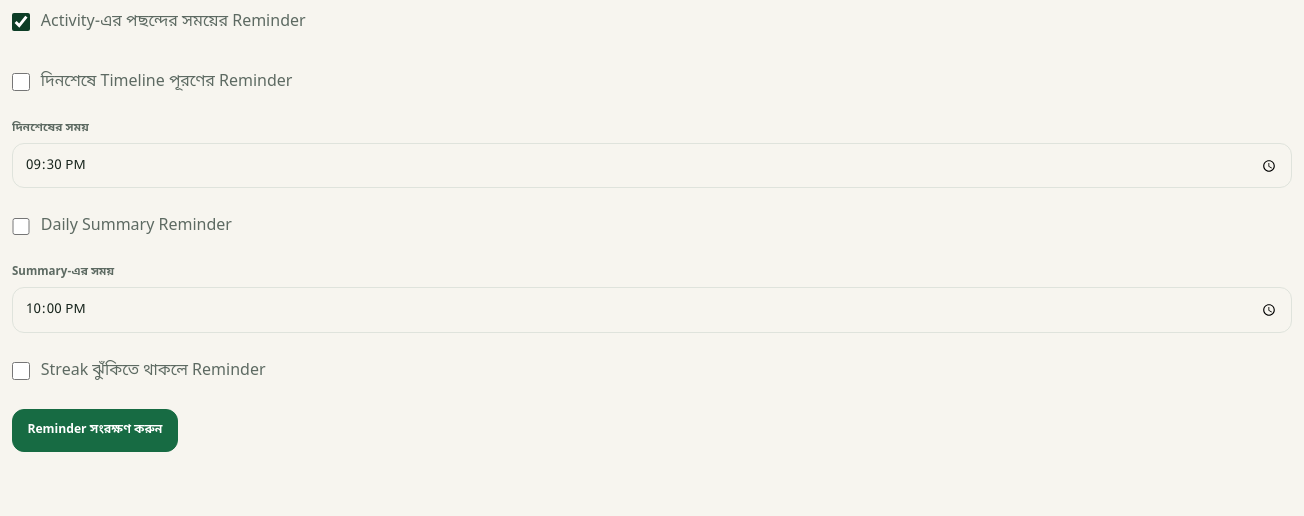
Test: ReminderSettingsForm › submits switches even when time inputs are empty
The image size is (1304, 516).
Clear the time field labelled "দিনশেষের সময়" at [652, 166], box [12,143,1292,188]
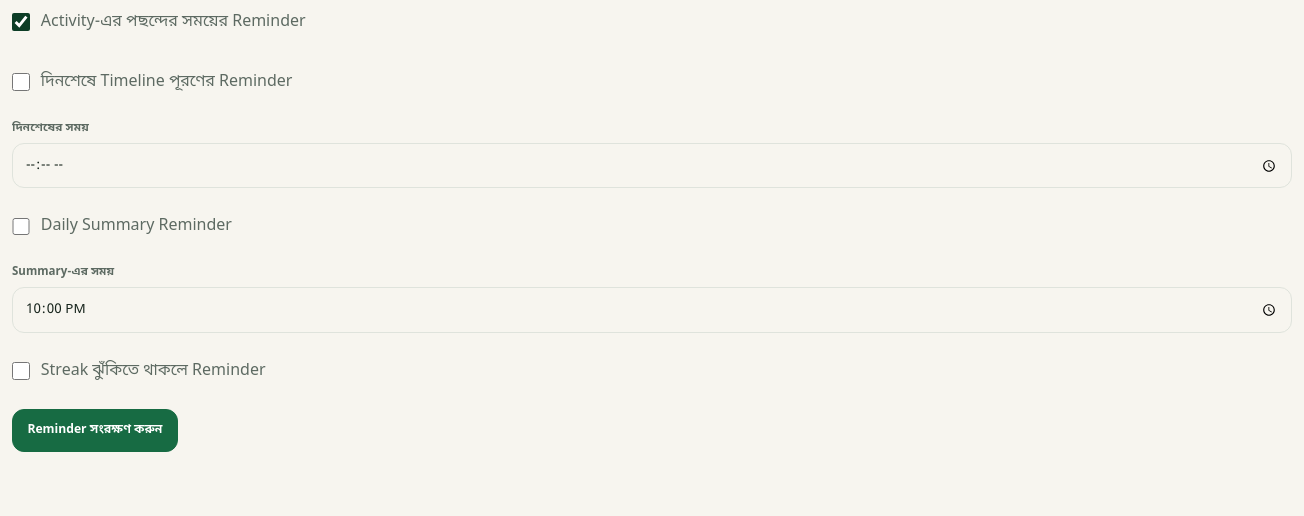
Clear the time field labelled "Summary-এর সময়" at [652, 310], box [12,287,1292,333]
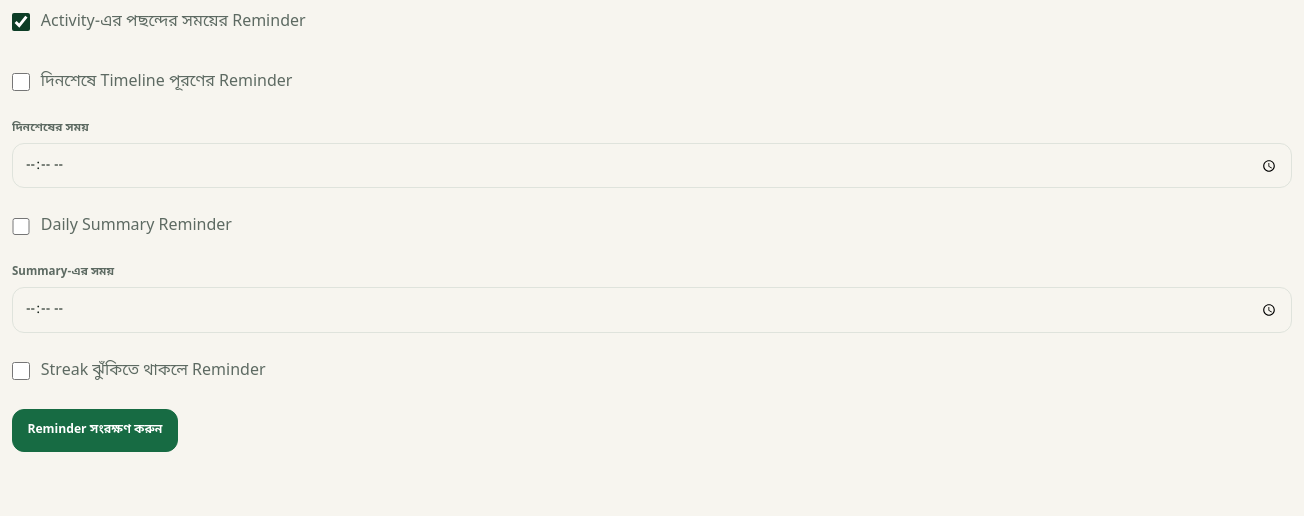
Click the button "Reminder সংরক্ষণ করুন" at [95, 430], box [12,409,178,452]
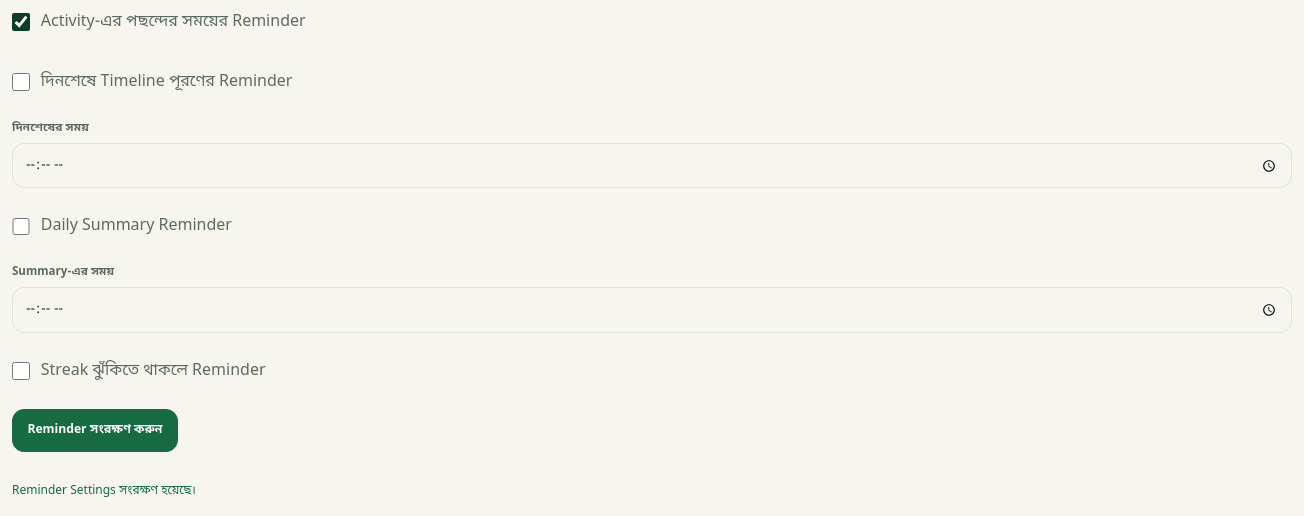
Now the message shows "সংরক্ষণ হয়েছে", box [12,484,196,500]
